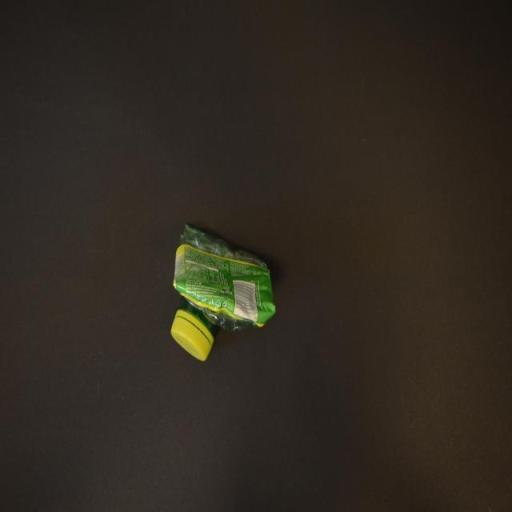plastic: (170, 222, 278, 364)
